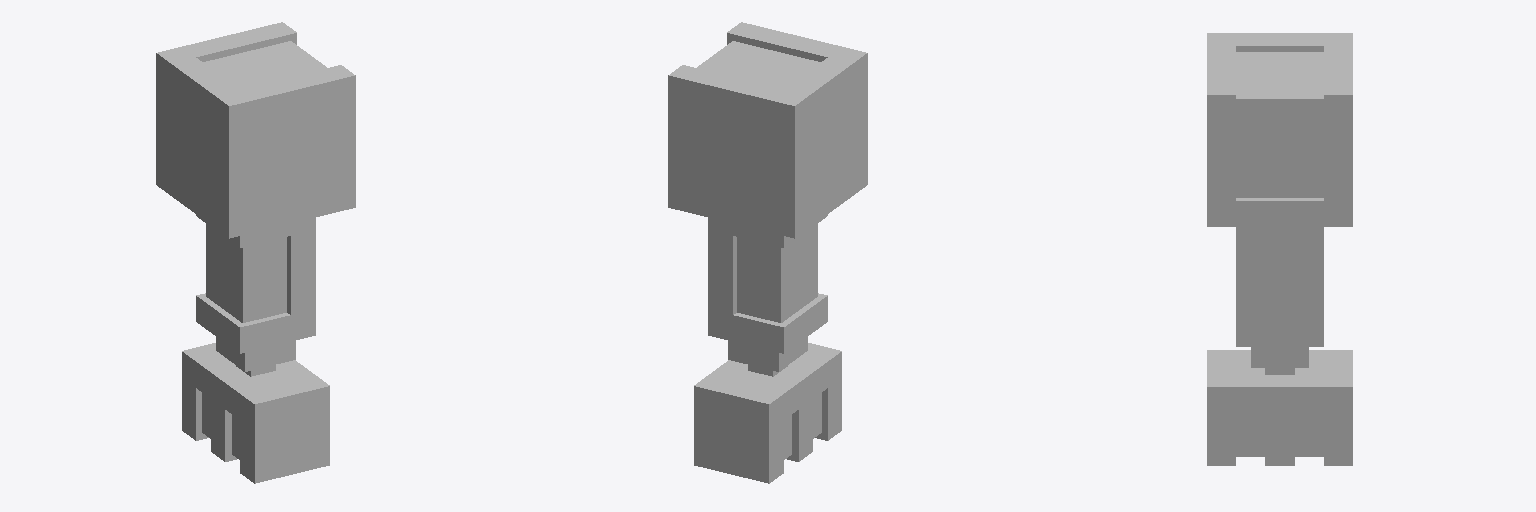
File: arm_hammer_r.obj
3 renders of one model, left to right at view 1: azimuth 30°, elevation 25°; view 2: azimuth 150°, elevation 25°; view 3: azimuth 270°, elevation 25°, orthographic.
Parts seen in each view (by area): view 1: ARM_RIGHT_HAMMER.OBSVAR_Cube.331; view 2: ARM_RIGHT_HAMMER.OBSVAR_Cube.331; view 3: ARM_RIGHT_HAMMER.OBSVAR_Cube.331.
Part boxes in pixels (x1,y1,x2,y2): ARM_RIGHT_HAMMER.OBSVAR_Cube.331: (156,22,355,483); ARM_RIGHT_HAMMER.OBSVAR_Cube.331: (668,22,867,483); ARM_RIGHT_HAMMER.OBSVAR_Cube.331: (1207,33,1352,465).
Size of the model in its own units: 0.3125 by 0.9062 by 0.3125.